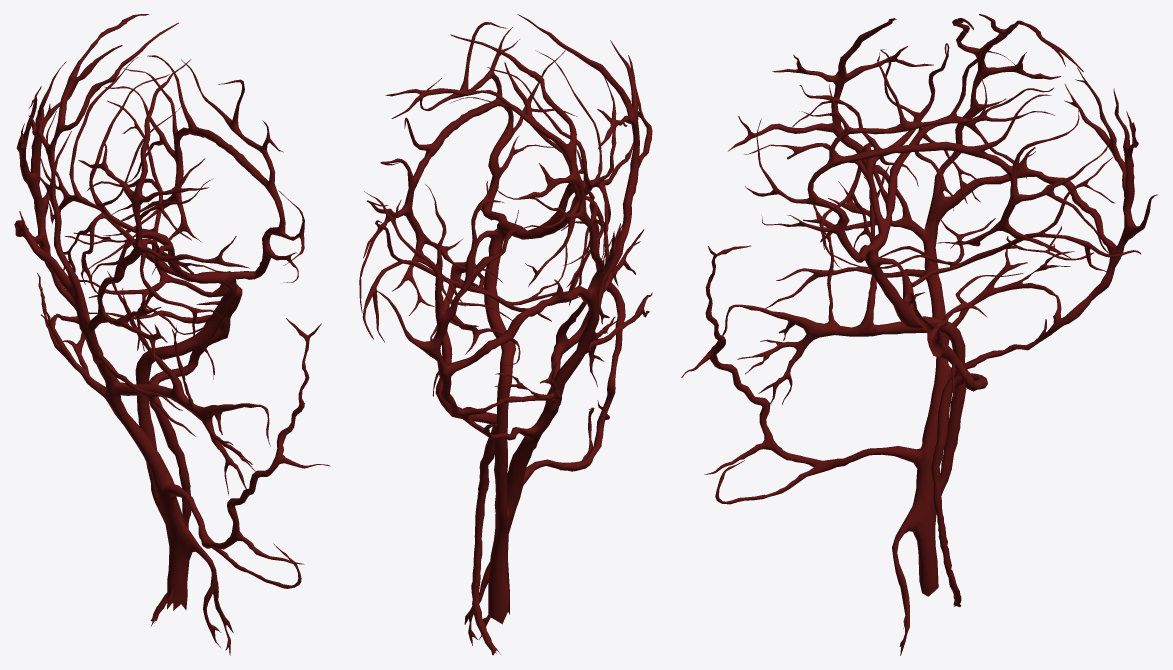
The model's file is Arteries_Iliaca_communis.004.obj.
3 views of the same model, side by side, from view 1: azimuth 30°, elevation 25°; view 2: azimuth 150°, elevation 25°; view 3: azimuth 270°, elevation 25° (orthographic). The views are drawn at different scales.
Parts seen in each view (by area): view 1: Arteries_Iliaca_communis.004_Arteries_lower.004; view 2: Arteries_Iliaca_communis.004_Arteries_lower.004; view 3: Arteries_Iliaca_communis.004_Arteries_lower.004.
Part boxes in pixels (bbox=[...]): Arteries_Iliaca_communis.004_Arteries_lower.004: bbox=[14, 14, 330, 655]; Arteries_Iliaca_communis.004_Arteries_lower.004: bbox=[359, 14, 652, 655]; Arteries_Iliaca_communis.004_Arteries_lower.004: bbox=[681, 14, 1158, 655].
Bounding box in the file's own units: 0.4175 × 1.5 × 1.05.
